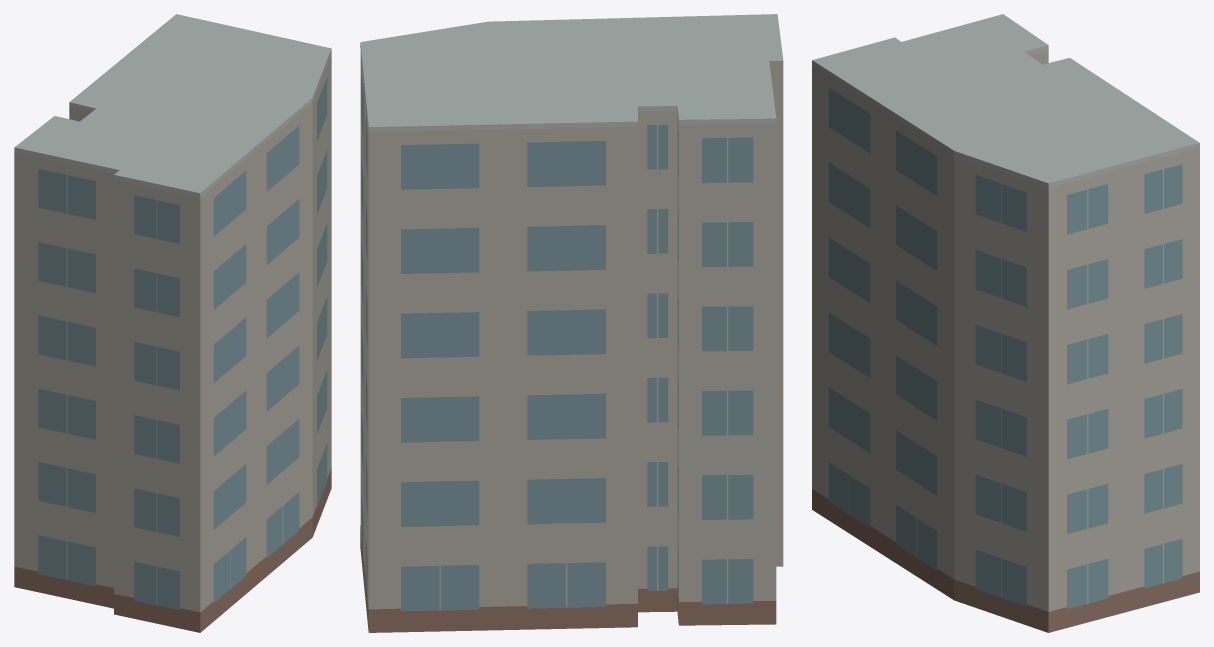
Rendered from survey-upis-32698571.glb.
3 renders of one model, left to right at view 1: azimuth 30°, elevation 25°; view 2: azimuth 150°, elevation 25°; view 3: azimuth 270°, elevation 25°, orthographic. The views are drawn at different scales.
Parts seen in each view (by area): view 1: survey-upis-32698571.tmp; view 2: survey-upis-32698571.tmp; view 3: survey-upis-32698571.tmp.
Part boxes in pixels (left/top/right/bottom): survey-upis-32698571.tmp: left=14, top=14, right=331, bottom=632; survey-upis-32698571.tmp: left=360, top=14, right=783, bottom=632; survey-upis-32698571.tmp: left=812, top=14, right=1199, bottom=632.
Bounding box in the file's own units: 19.24 × 23.8 × 18.62.
